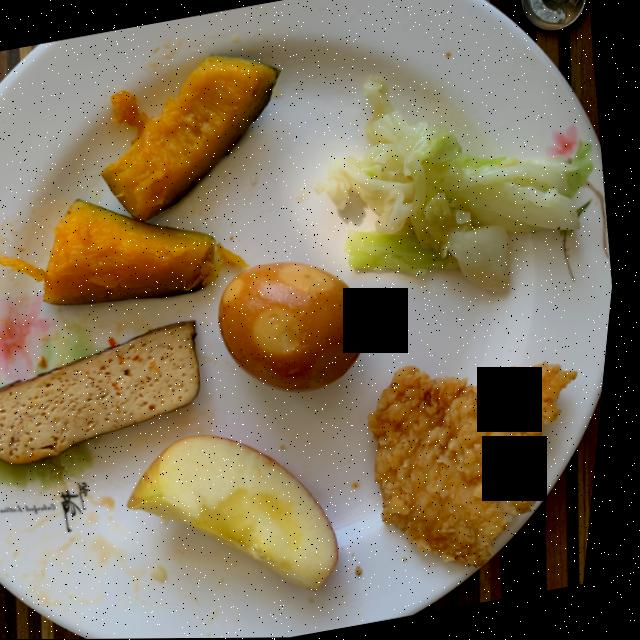apple -sliced-: (137, 435, 349, 590)
cabbage: (322, 78, 596, 292)
coin: (522, 0, 585, 31)
firm tofu: (0, 320, 208, 464)
fried chicken cutlet: (376, 363, 583, 567)
pumpkin: (0, 55, 280, 305)
soy egg: (224, 262, 372, 392)
